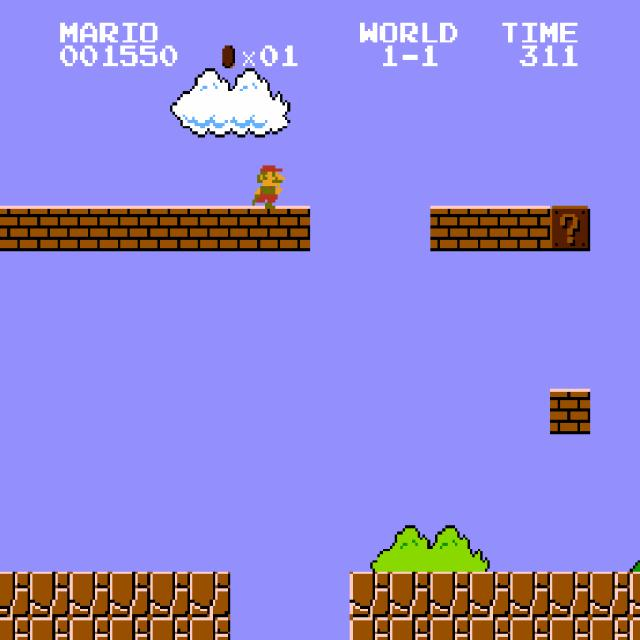brick_block: (30, 206, 70, 251), (70, 206, 110, 251), (110, 206, 150, 251), (150, 206, 190, 251), (190, 206, 230, 251), (230, 206, 270, 251), (270, 206, 310, 251), (430, 206, 470, 251), (470, 206, 510, 251), (510, 206, 550, 251), (550, 389, 590, 434), (0, 206, 30, 251)
little_mario: (245, 160, 287, 208)
mystery_block: (550, 206, 590, 251)
undestructible_block: (30, 572, 70, 617), (70, 572, 110, 617), (110, 572, 150, 617), (150, 572, 190, 617), (190, 572, 230, 617), (350, 572, 390, 617), (390, 572, 430, 617), (430, 572, 470, 617), (470, 572, 510, 617), (510, 572, 550, 617), (550, 572, 590, 617), (590, 572, 630, 617), (0, 572, 30, 617), (30, 617, 70, 640), (70, 617, 110, 640), (110, 617, 150, 640), (150, 617, 190, 640), (190, 617, 230, 640), (350, 617, 390, 640), (390, 617, 430, 640), (430, 617, 470, 640), (470, 617, 510, 640), (510, 617, 550, 640), (550, 617, 590, 640), (590, 617, 630, 640), (0, 617, 30, 640), (629, 571, 640, 617), (629, 617, 640, 639)
